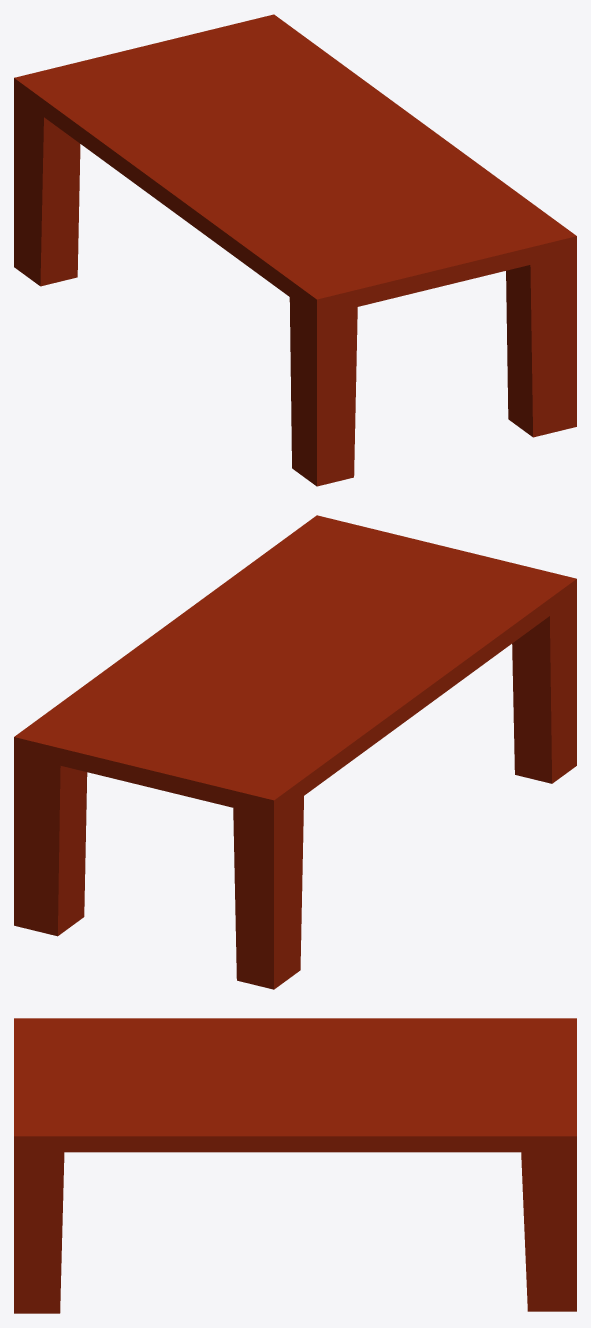
Rendered from table.dae.
3 renders of one model, top to bottom at view 1: azimuth 30°, elevation 25°; view 2: azimuth 150°, elevation 25°; view 3: azimuth 270°, elevation 25°, orthographic. The views are drawn at different scales.
Parts seen in each view (by area): view 1: Cube; view 2: Cube; view 3: Cube.
Part boxes in pixels (x1,y1,x2,y2): Cube: (14, 14, 576, 486); Cube: (14, 515, 576, 989); Cube: (14, 1018, 576, 1313).
Size of the model in its own units: 31.92 by 22.37 by 64.39.
